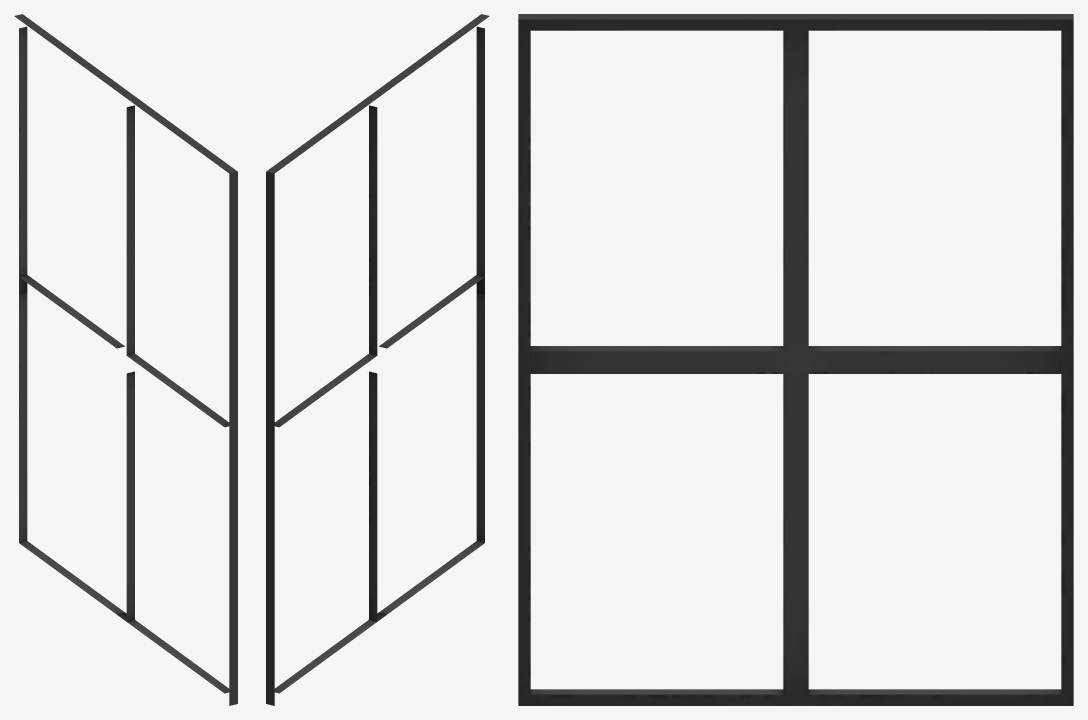
3 views of the same model, side by side, from view 1: azimuth 30°, elevation 25°; view 2: azimuth 150°, elevation 25°; view 3: azimuth 270°, elevation 25° (orthographic). The views are drawn at different scales.
Parts seen in each view (by area): view 1: body0_model0_lod0_mesh0; view 2: body0_model0_lod0_mesh0; view 3: body0_model0_lod0_mesh0.
Boxes of the visible parts, left/top/right/bottom form: body0_model0_lod0_mesh0: left=14, top=14, right=237, bottom=705; body0_model0_lod0_mesh0: left=266, top=14, right=489, bottom=705; body0_model0_lod0_mesh0: left=518, top=14, right=1073, bottom=705.
Size of the model in its own units: 2.01 by 120 by 88.
Materials: 1 (1 with a texture image).
